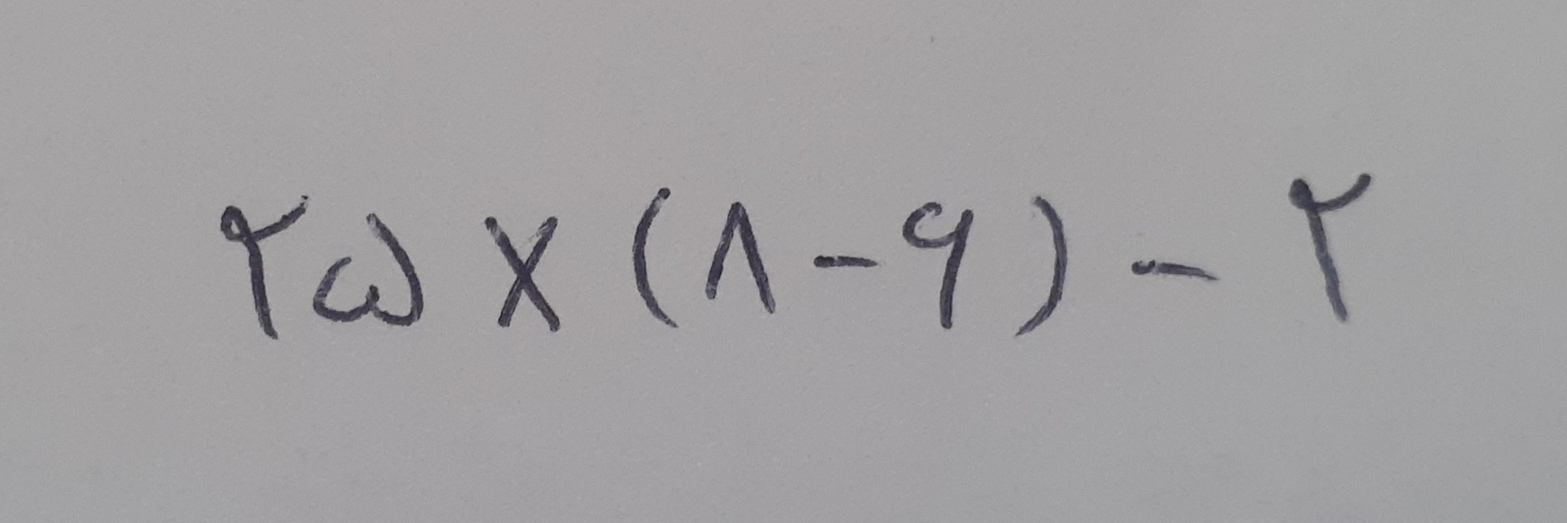character: (221, 193, 310, 339), (313, 211, 424, 325), (1289, 173, 1372, 322), (903, 202, 975, 329), (484, 217, 560, 330), (705, 202, 776, 313), (1014, 197, 1067, 337), (632, 186, 680, 328), (1130, 259, 1218, 281), (812, 254, 877, 269)
